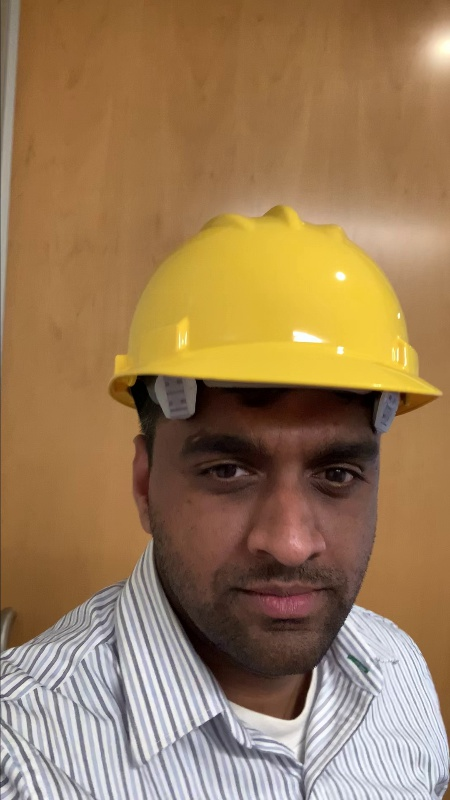helmet: (101, 191, 450, 441)
